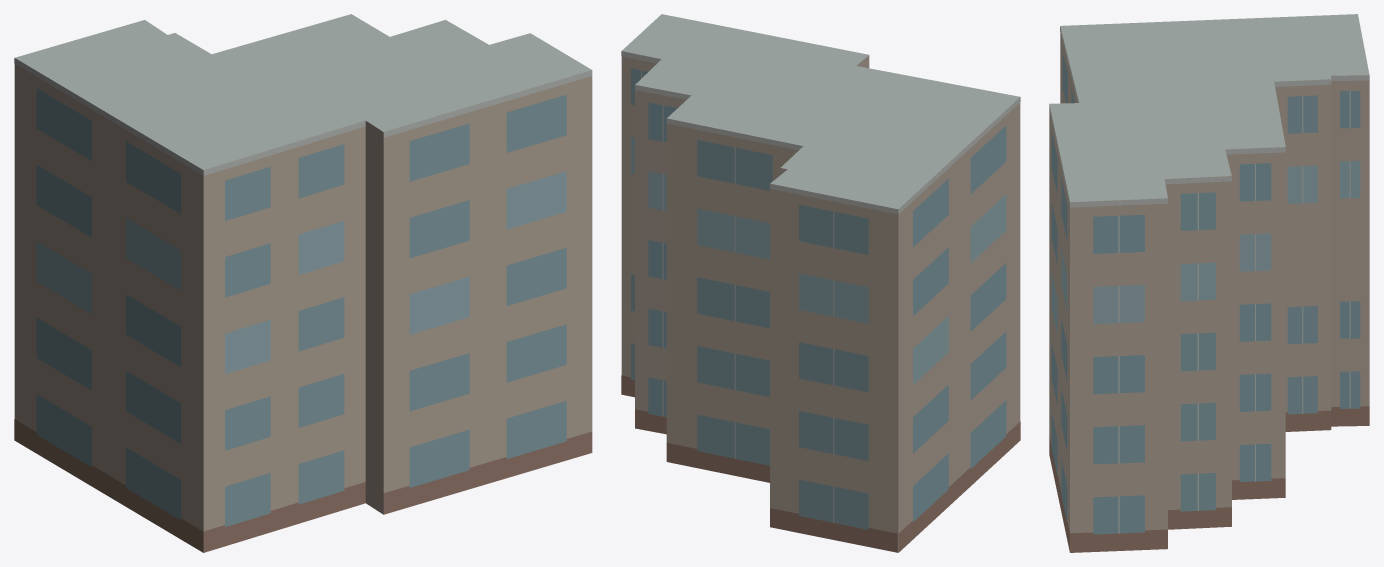
Rendered from survey-upis-32628340.glb.
3 renders of one model, left to right at view 1: azimuth 30°, elevation 25°; view 2: azimuth 150°, elevation 25°; view 3: azimuth 270°, elevation 25°, orthographic. The views are drawn at different scales.
Visible parts, largest first — view 1: survey-upis-32628340.tmp; view 2: survey-upis-32628340.tmp; view 3: survey-upis-32628340.tmp.
Part boxes in pixels (bbox=[...]): survey-upis-32628340.tmp: bbox=[14, 14, 592, 552]; survey-upis-32628340.tmp: bbox=[621, 14, 1020, 552]; survey-upis-32628340.tmp: bbox=[1049, 14, 1369, 552].
Bounding box in the file's own units: 18.47 × 16.05 × 13.29.
